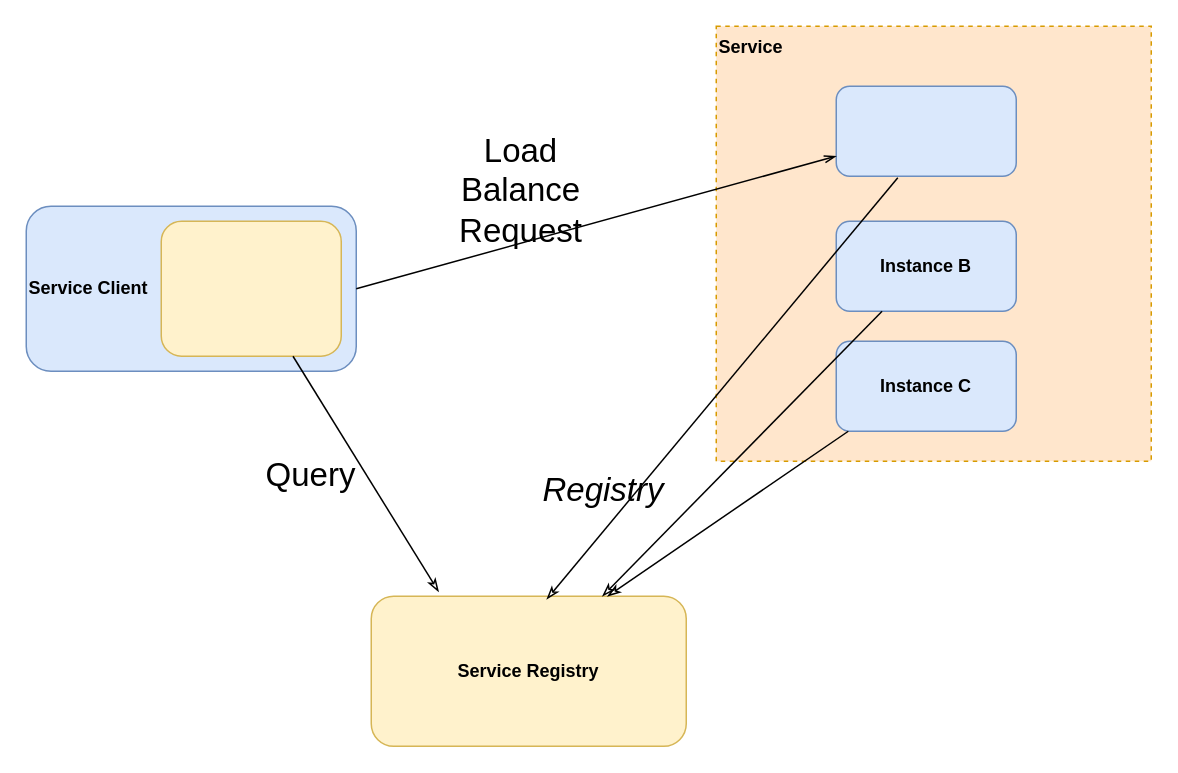
This 1178x773 diagram has some shape labels left out. Each missing label, with the centre of its shape:
"Discovery Component" goes at (250,288).
"Instance A" goes at (925,130).
